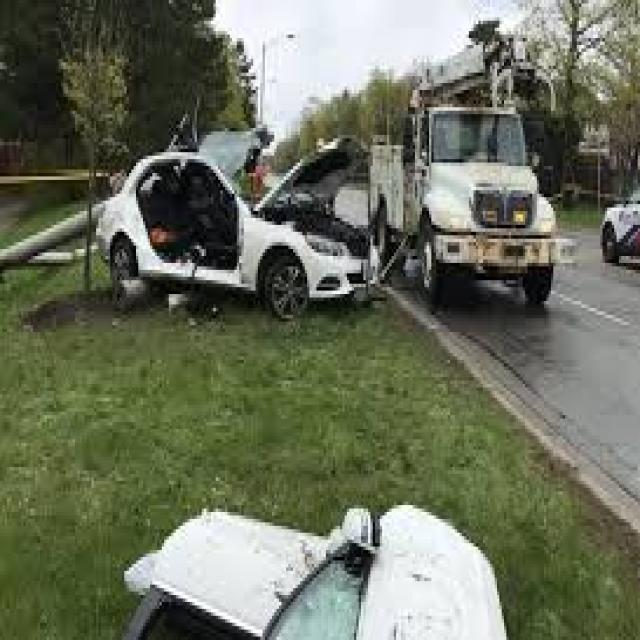Accident: (90, 84, 577, 324), (122, 486, 510, 640)
